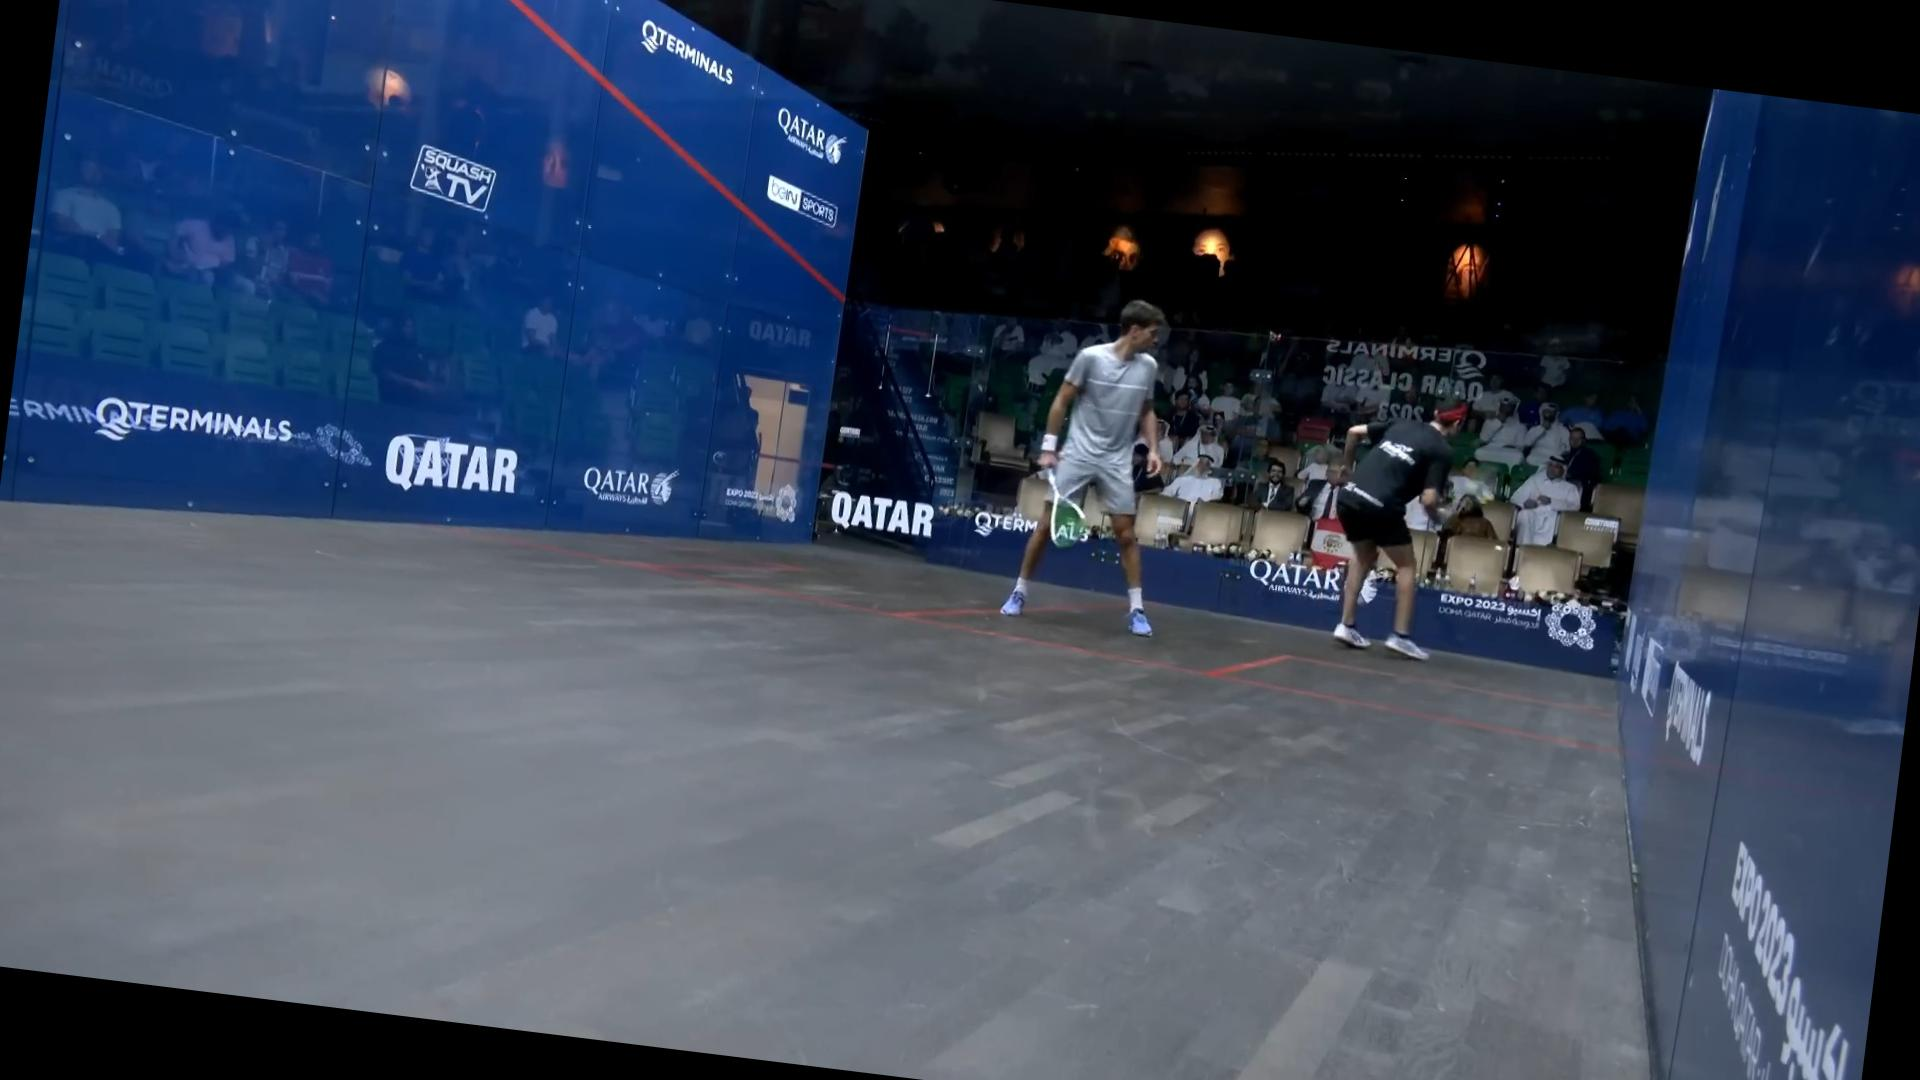Racket: (1040, 475, 1095, 558)
